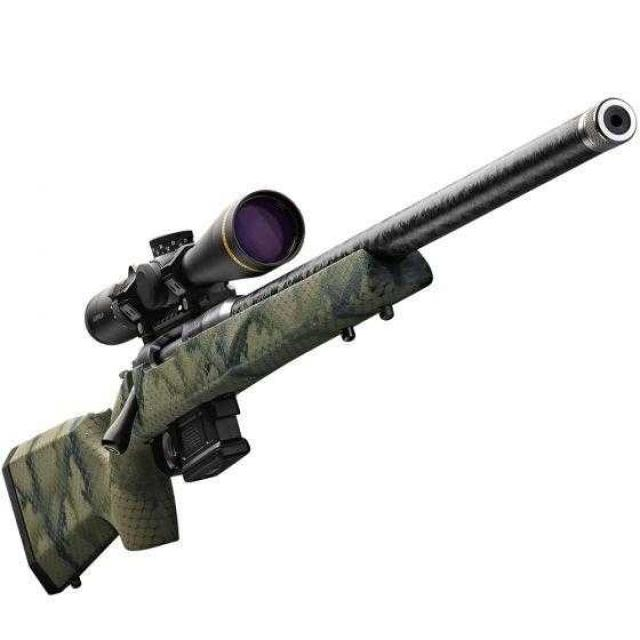heavyweapon: (6, 70, 639, 609)
